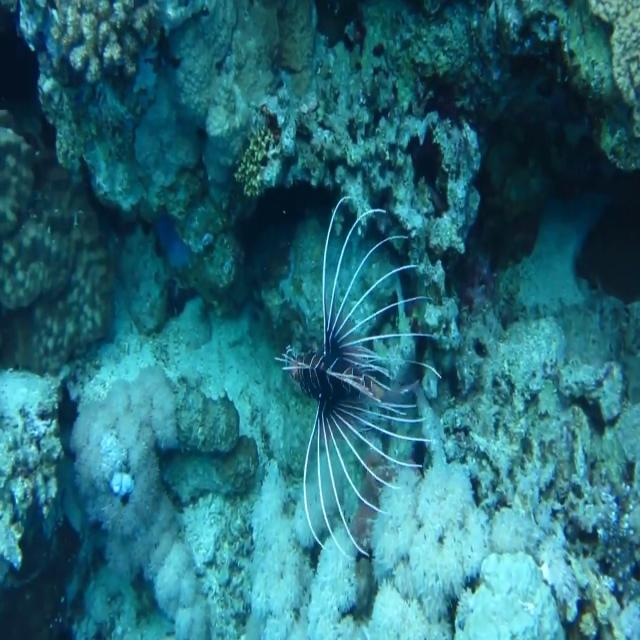Aslan Baligi: (274, 194, 442, 562)
